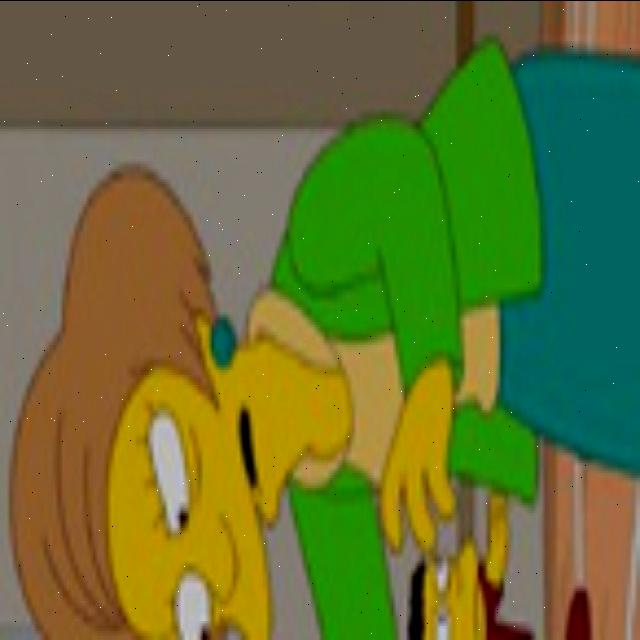Edna Krappel: (9, 168, 310, 640)
